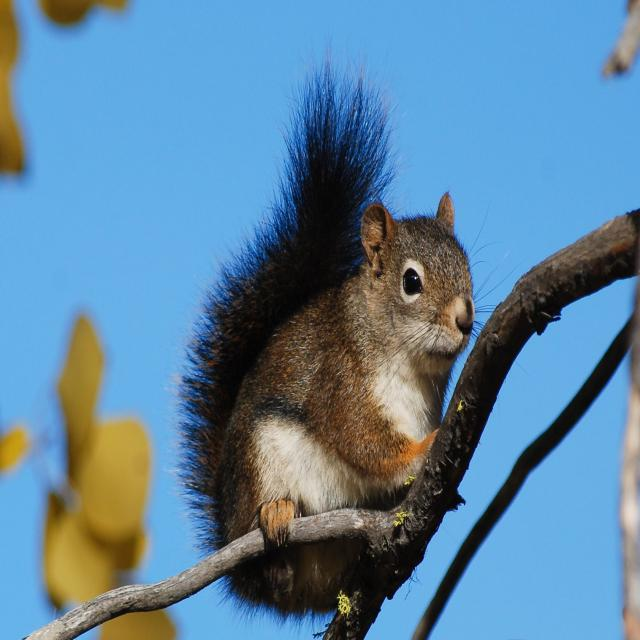Squirrel: (178, 80, 472, 584)
